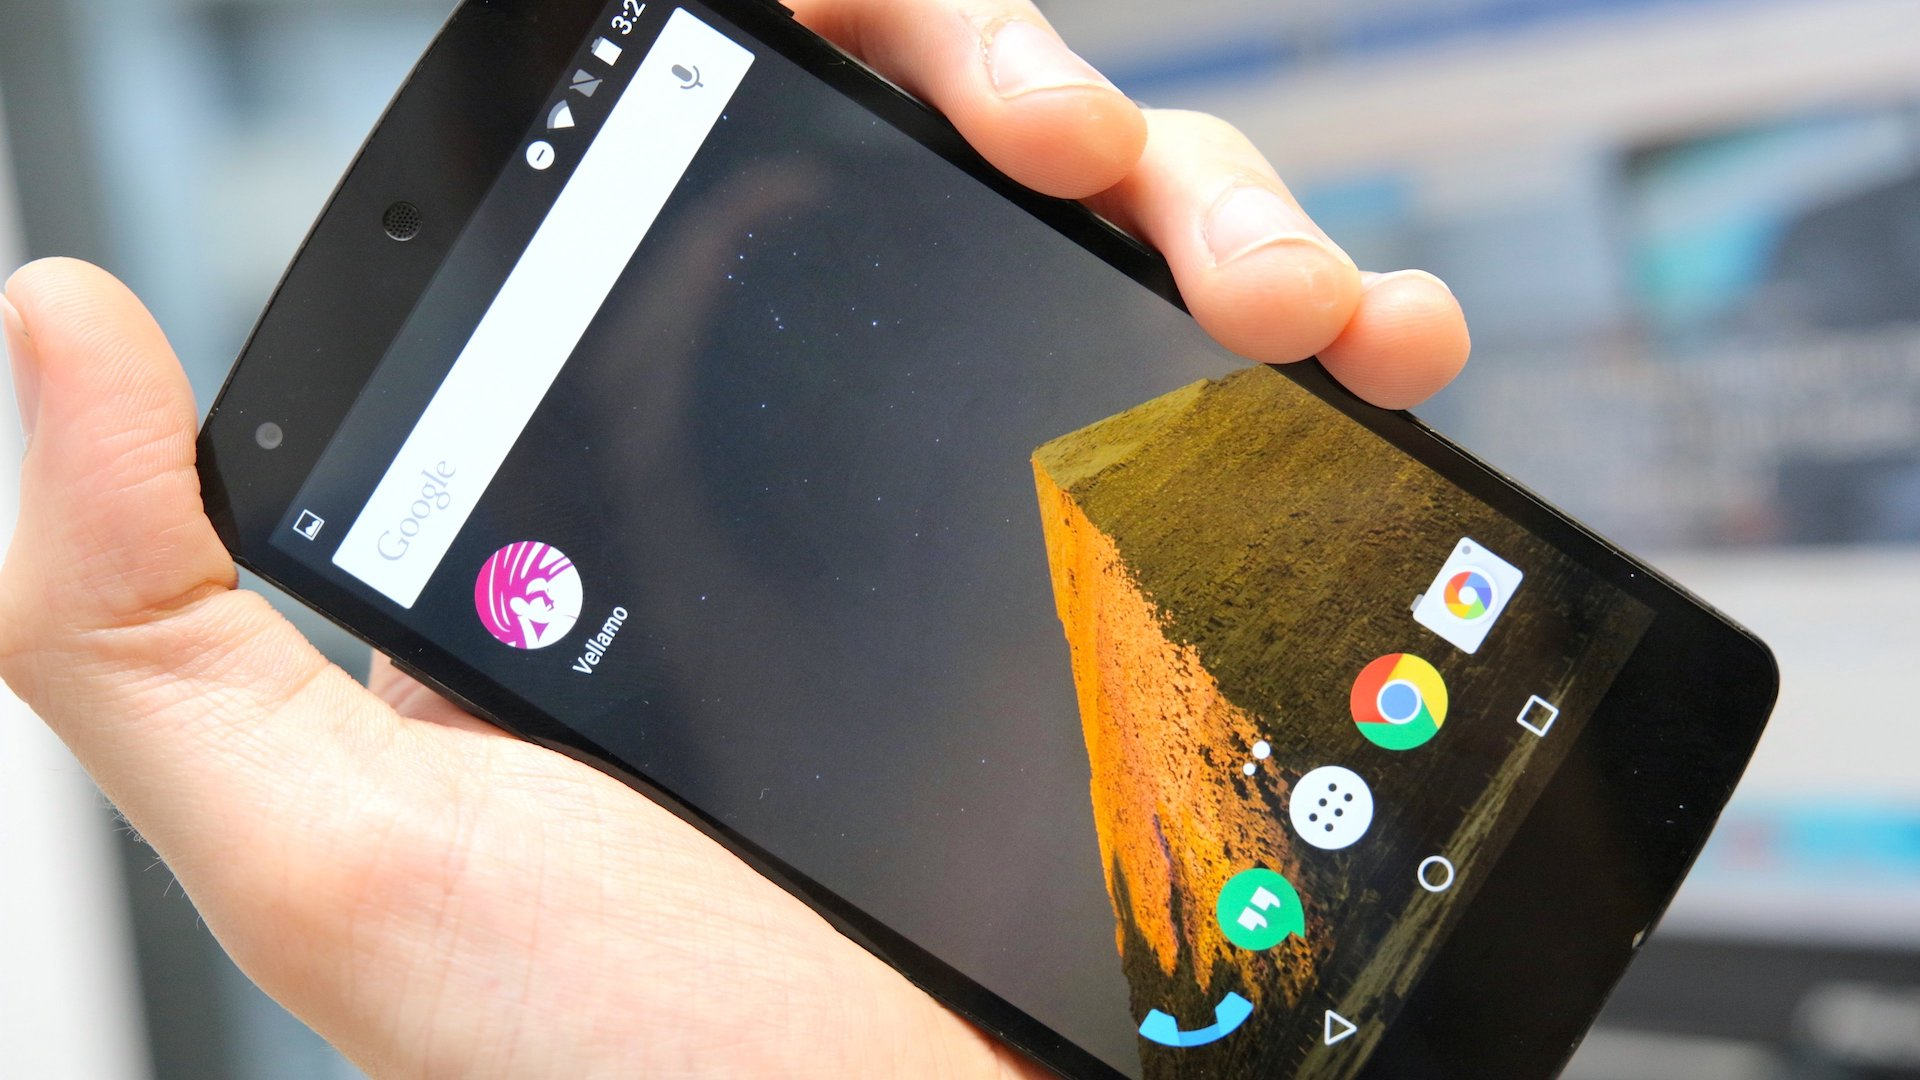smartphone: (193, 1, 1782, 1080)
